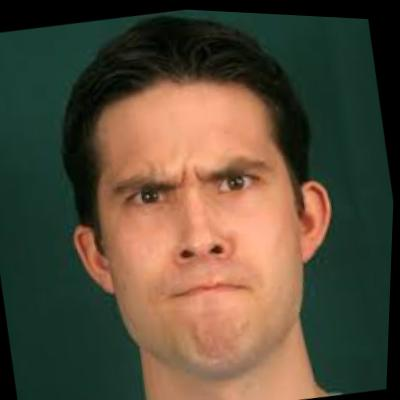angry: (36, 4, 362, 396)
